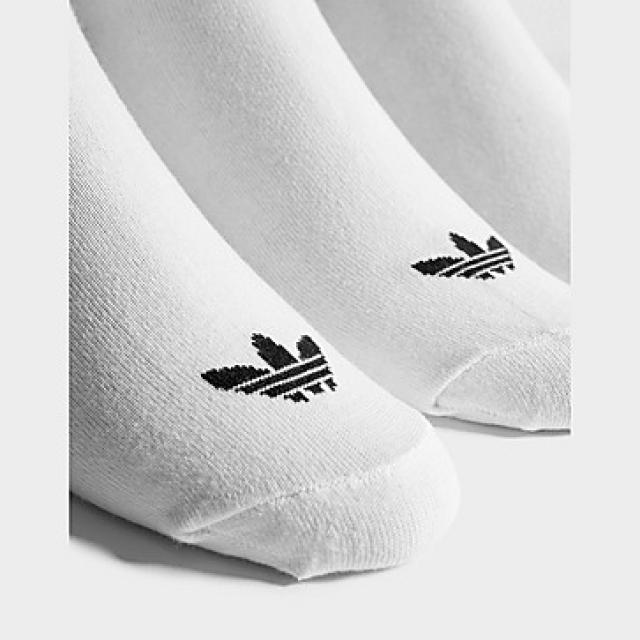sock: (65, 5, 462, 582)
